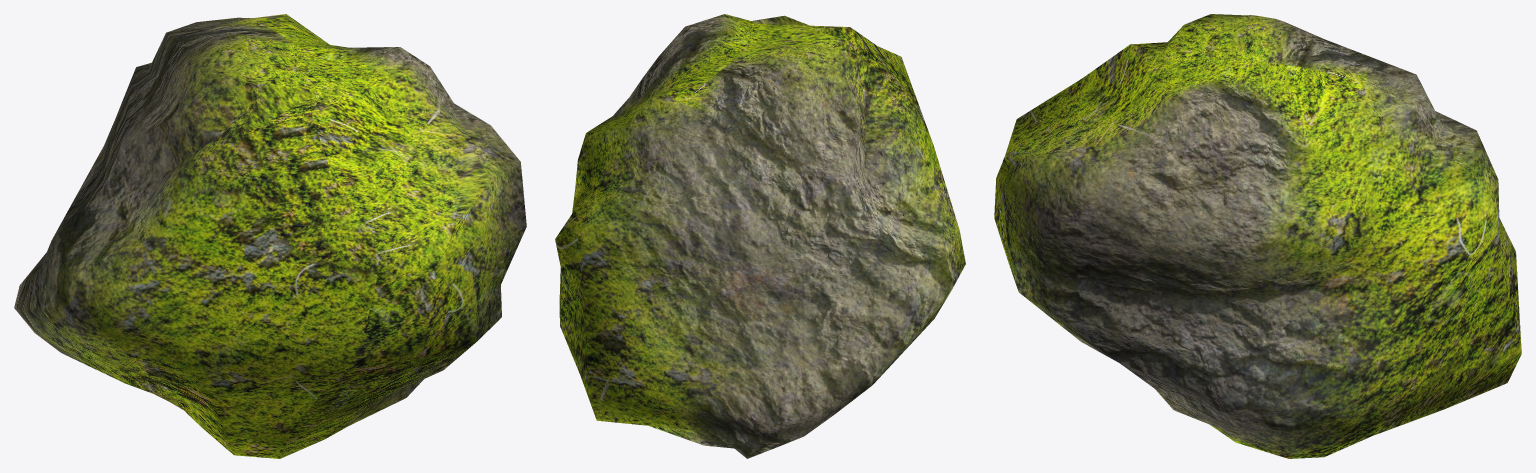
Rendered from Rock Low Poly.fbx.
3 views of the same model, side by side, from view 1: azimuth 30°, elevation 25°; view 2: azimuth 150°, elevation 25°; view 3: azimuth 270°, elevation 25° (orthographic). The views are drawn at different scales.
Visible parts, largest first — view 1: low1; view 2: low1; view 3: low1.
Part boxes in pixels (left/top/right/bottom): low1: left=14, top=14, right=526, bottom=458; low1: left=555, top=14, right=965, bottom=458; low1: left=994, top=14, right=1521, bottom=458.
Size of the model in its own units: 8.32 by 7.64 by 9.87.
